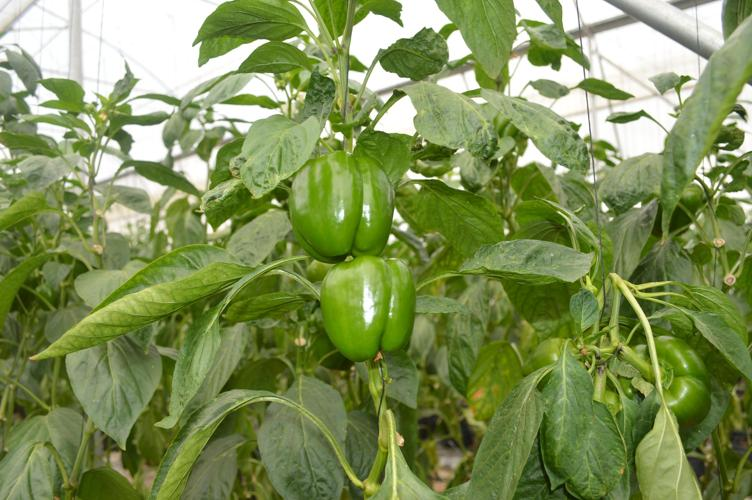BellPepper: (285, 144, 397, 261), (318, 253, 426, 371), (629, 338, 722, 438), (518, 326, 589, 407), (641, 161, 706, 244)
